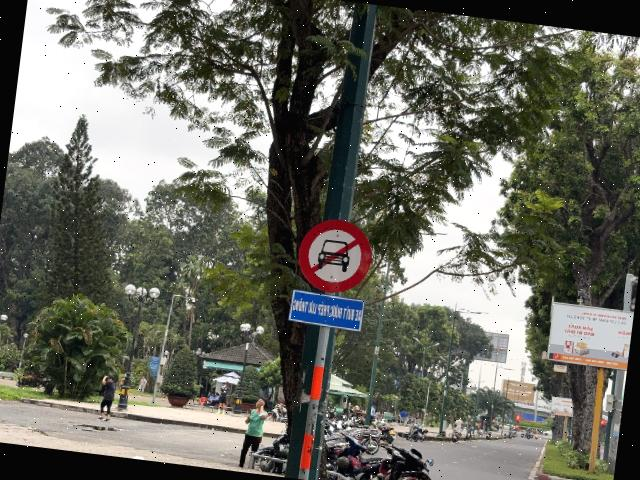cam-o-to: (294, 216, 376, 296)
